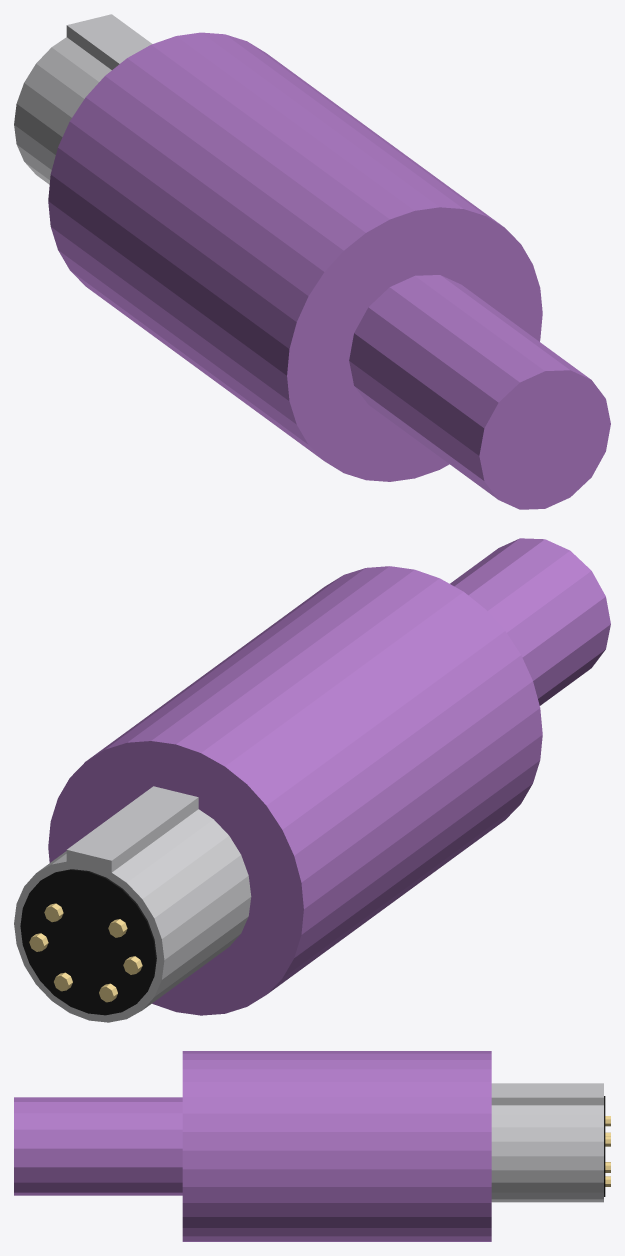
The model's file is cable_ps2_plug_kb.glb.
3 renders of one model, top to bottom at view 1: azimuth 30°, elevation 25°; view 2: azimuth 150°, elevation 25°; view 3: azimuth 270°, elevation 25°, orthographic. The views are drawn at different scales.
Parts seen in each view (by area): view 1: plug_body; view 2: plug_body; view 3: plug_body.
Boxes of the visible parts, x1,y1,x2,y2 form: plug_body: [14, 14, 610, 509]; plug_body: [14, 538, 610, 1022]; plug_body: [14, 1051, 610, 1241].
Bounding box in the file's own units: 0.0136 × 0.0136 × 0.0425.
